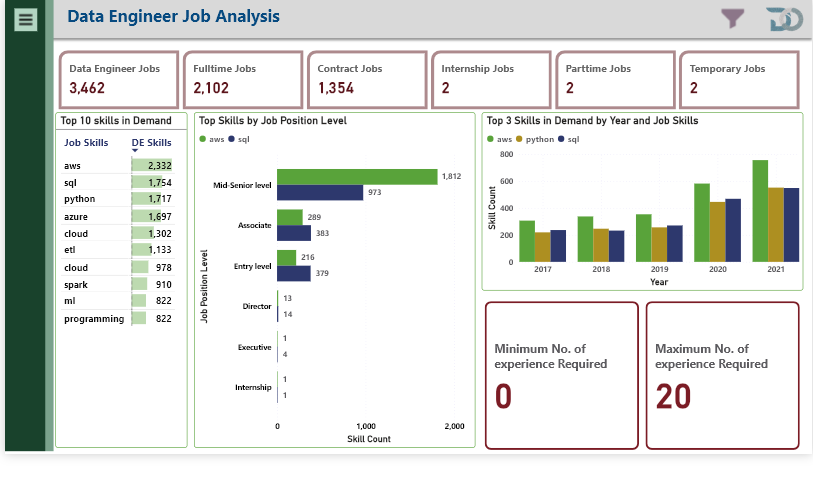

This screenshot's page, from the dashboard's own definition file:
{"tool":"powerbi","page":{"name":"Data Engineer Analysis","canvas":[1280,720],"ordinal":1},"visuals":[{"type":"actionButton","title":"Filter","box":[1130,7.1,51.4,47.1],"z":0},{"type":"cardVisual","title":"Basic Stats","fields":{"Data":["Key_measures.Data Engineer Jobs","Key_measures.FullTime_DE","Key_measures.C_DE","Key_measures.IN_DE","Key_measures.PT_DE","Key_measures.T_DE"]},"box":[80.4,74.4,1187.3,104.2],"z":0,"group":"g1"},{"type":"group","id":"g1","title":"DE_Visualizations","box":[80.1,1.4,1187.6,718.7],"z":1000},{"type":"textbox","box":[92.9,1.4,368.6,47.1],"z":1000,"group":"g1"},{"type":"tableEx","title":"Top 10 skills in Demand","fields":{"Values":["job_skill_list.Job Skills","Key_measures.DE Skills"]},"box":[80.1,177.8,209.8,532.7],"z":2000,"group":"g1"},{"type":"clusteredColumnChart","title":"Top 3 Skills in Demand by Year and Job Skills","fields":{"Category":["DimDate.Year"],"Y":["Key_measures.DE Skills"],"Series":["job_skill_list.Job Skills"]},"box":[757.4,178.5,510.3,282.7],"z":3000,"group":"g1"},{"type":"clusteredBarChart","title":"Top Skills by Job Position Level","fields":{"Category":["job_postings.Job Position Level"],"Series":["job_skill_list.Job Skills"],"Y":["Key_measures.DE Skills"]},"box":[300.2,177.8,446.4,532.7],"z":4000,"group":"g1"},{"type":"actionButton","title":"Menu","box":[14.5,13,36.2,36.2],"z":5000},{"type":"cardVisual","fields":{"Data":["Key_measures.MinDE","Key_measures.MaxDE"]},"box":[757.4,473.1,510.3,247],"z":5000,"group":"g1"}]}

Visuals, with their boxes on the page's 1280x720 design canvas (x1, y1, x2, y2). These are canvas units, not pixel positions in the 813x483 screenshot, which may show the page scaled, cropped or inside an application window:
"Filter" actionButton: box=[1130, 7, 1181, 54]
"Basic Stats" cardVisual: box=[80, 74, 1268, 179]
"DE_Visualizations" group: box=[80, 1, 1268, 720]
textbox: box=[93, 1, 462, 48]
"Top 10 skills in Demand" tableEx: box=[80, 178, 290, 710]
"Top 3 Skills in Demand by Year and Job Skills" clusteredColumnChart: box=[757, 178, 1268, 461]
"Top Skills by Job Position Level" clusteredBarChart: box=[300, 178, 747, 710]
"Menu" actionButton: box=[14, 13, 51, 49]
cardVisual - Key_measures.MinDE x Key_measures.MaxDE: box=[757, 473, 1268, 720]
